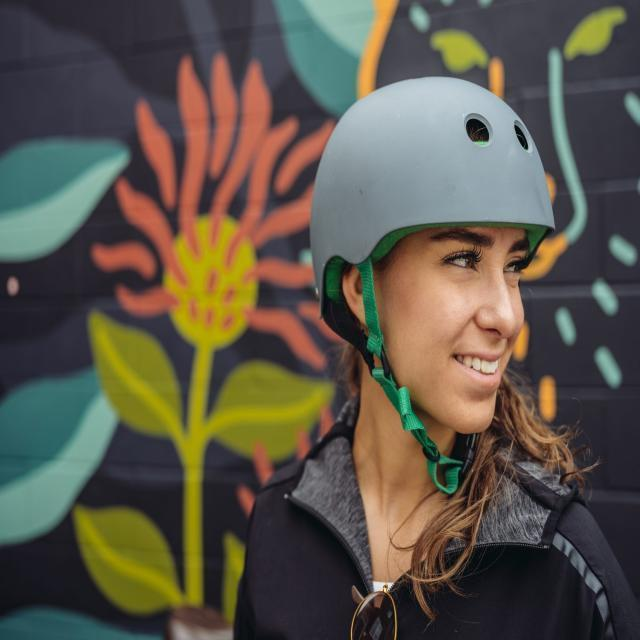helmet: (314, 74, 556, 498)
